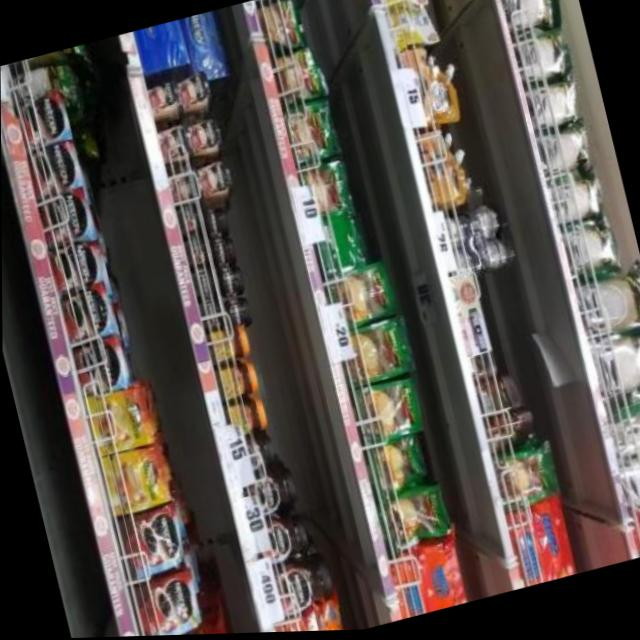Coffee: (109, 507, 181, 583), (97, 447, 167, 516), (125, 572, 198, 637), (84, 388, 152, 456), (270, 558, 334, 619), (35, 186, 92, 248), (58, 285, 114, 343), (239, 473, 299, 527), (16, 93, 70, 151), (26, 140, 81, 196), (71, 339, 126, 394), (252, 517, 308, 571), (48, 239, 100, 289), (202, 324, 248, 365), (231, 437, 274, 480), (222, 398, 266, 439), (213, 363, 257, 401), (200, 205, 227, 241), (222, 300, 250, 331), (216, 267, 243, 297), (191, 265, 213, 299), (176, 203, 200, 234), (183, 234, 206, 266), (210, 236, 234, 266), (196, 297, 218, 329)
